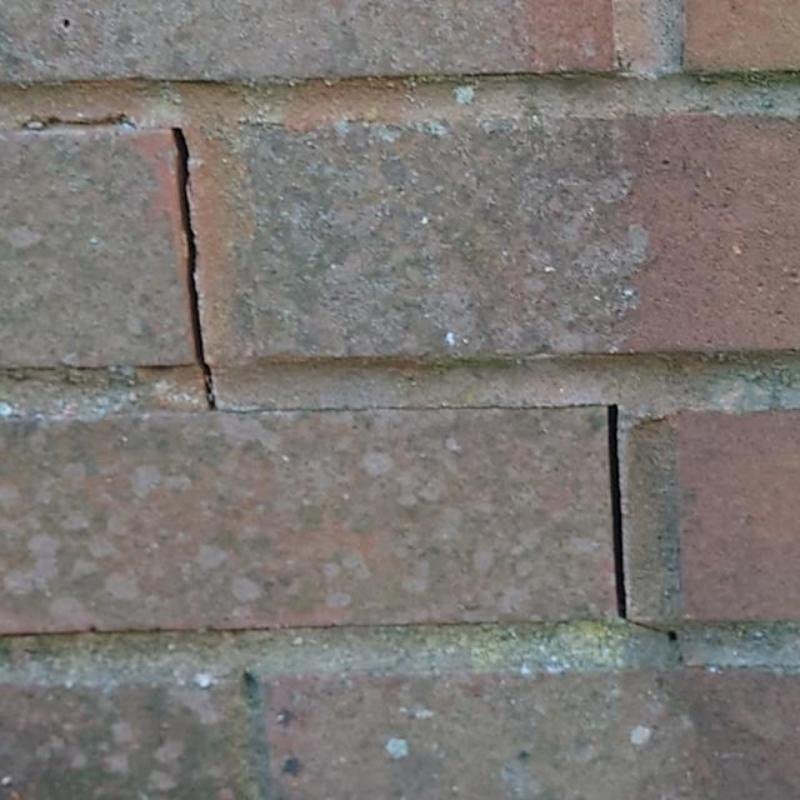pothole: (174, 128, 212, 409), (628, 618, 799, 674), (214, 401, 610, 414), (608, 405, 625, 618), (42, 114, 174, 132)
